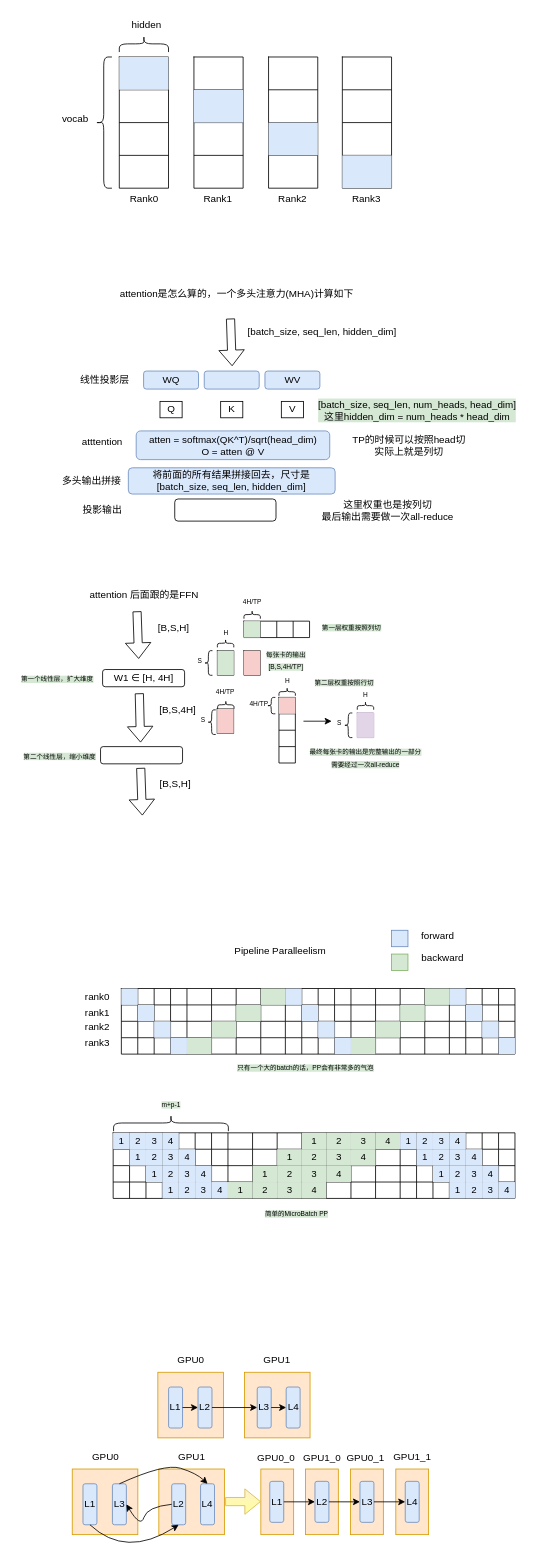
Image size: 538x1556. Some labels were removed from this diagram. Here are the shapes that lost their labels. From the top down, the box of each, then its label:
(203, 370, 259, 389): WK
(174, 498, 276, 521): O_proj = O @ W_out
(100, 746, 183, 764): W1 ∈ [4H, H]
